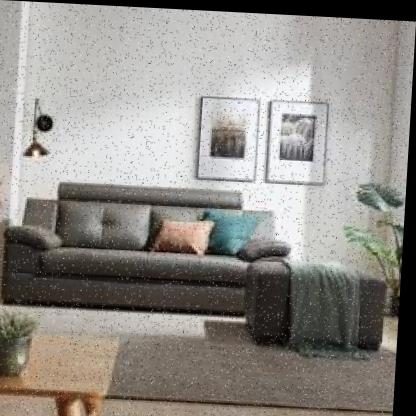Sofa: (0, 162, 366, 330)
